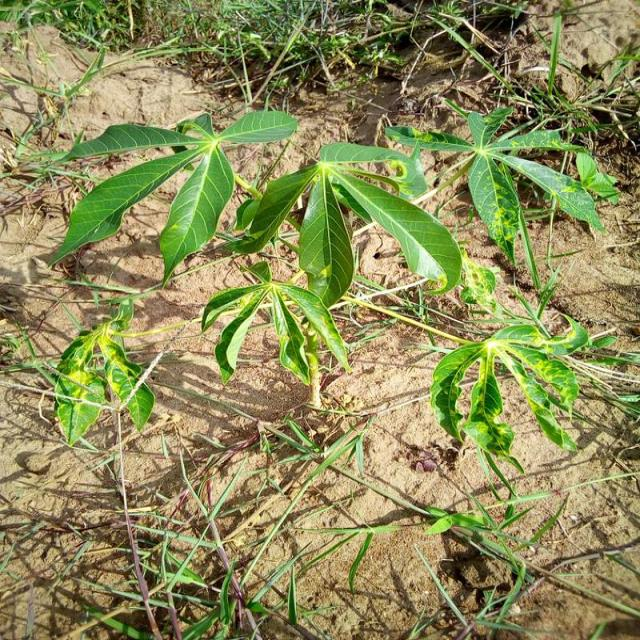Mosaico: (399, 104, 616, 251), (49, 299, 225, 436), (427, 331, 605, 446), (207, 265, 348, 391)
